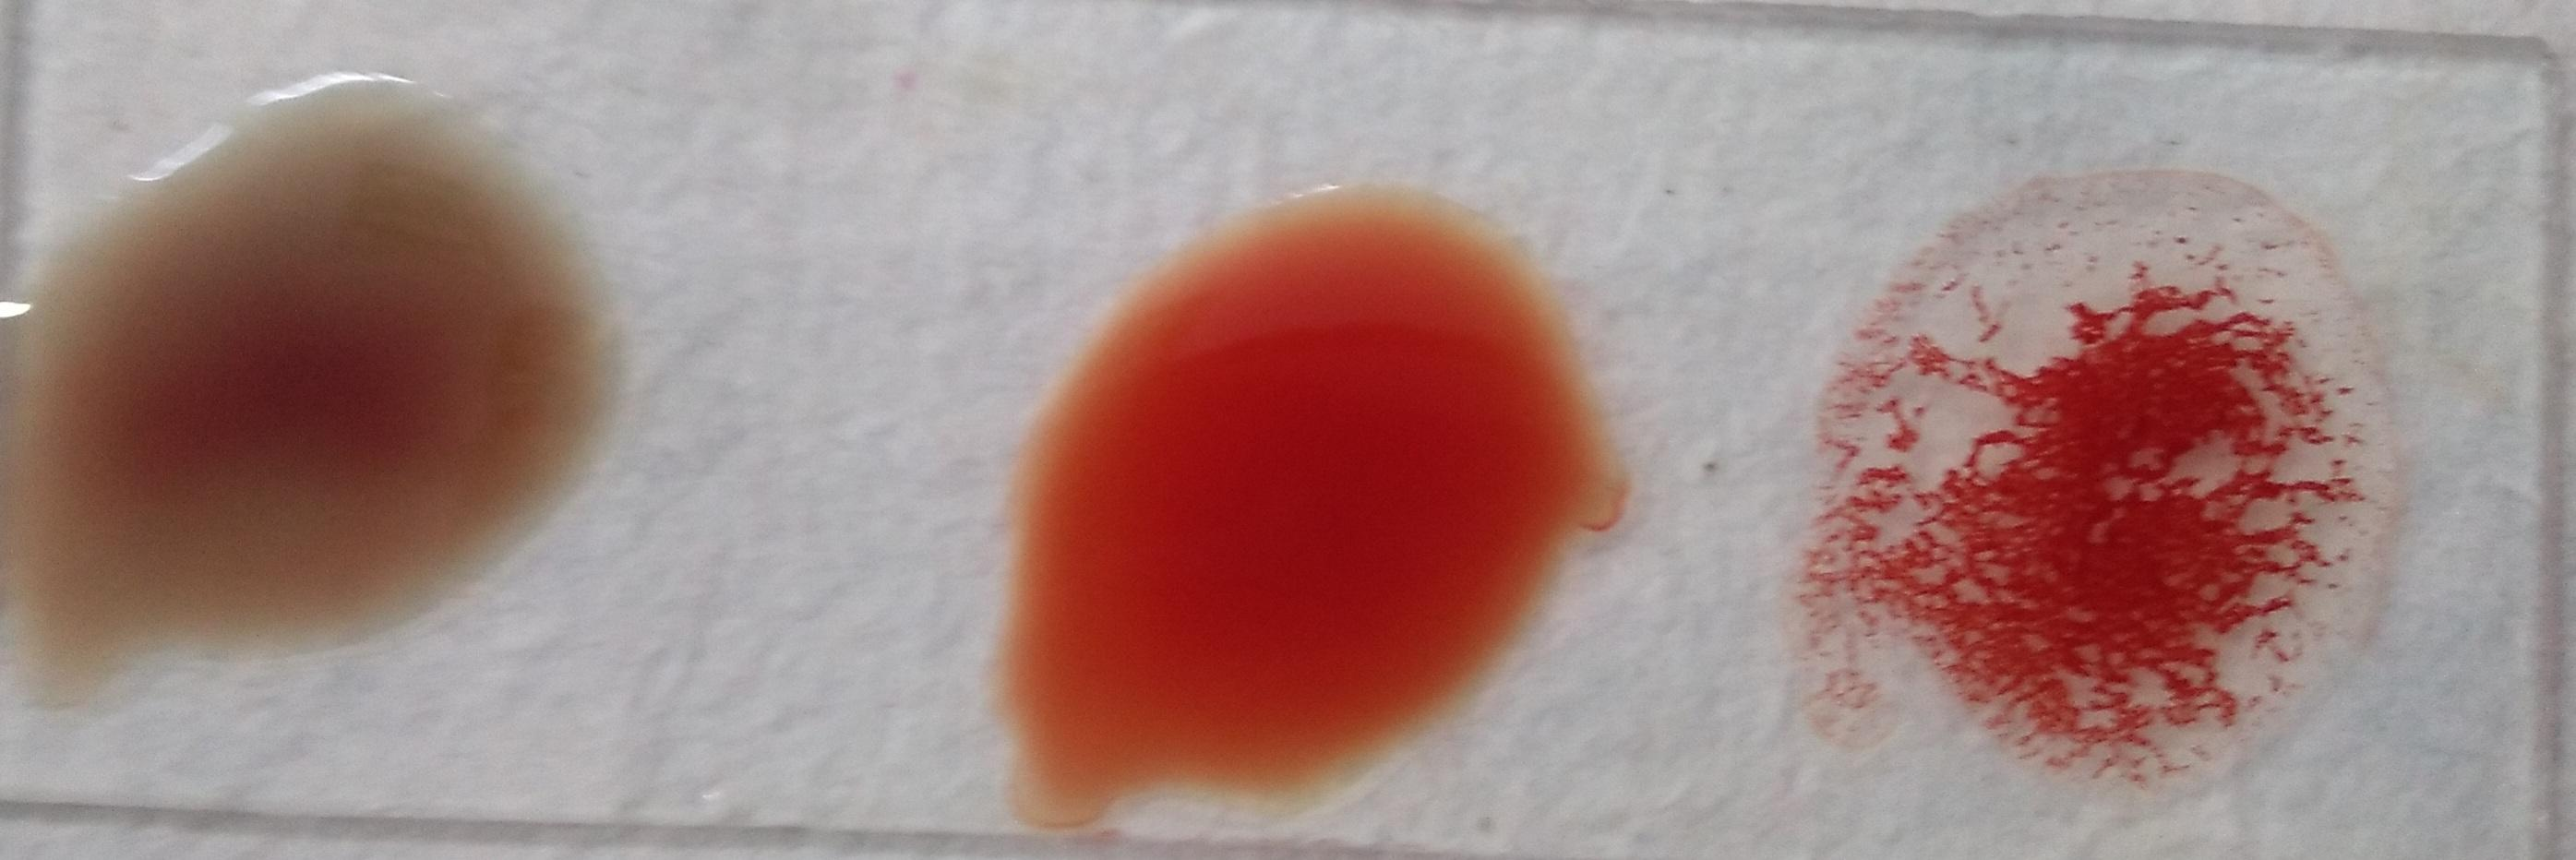D: (181, 89, 746, 681)
